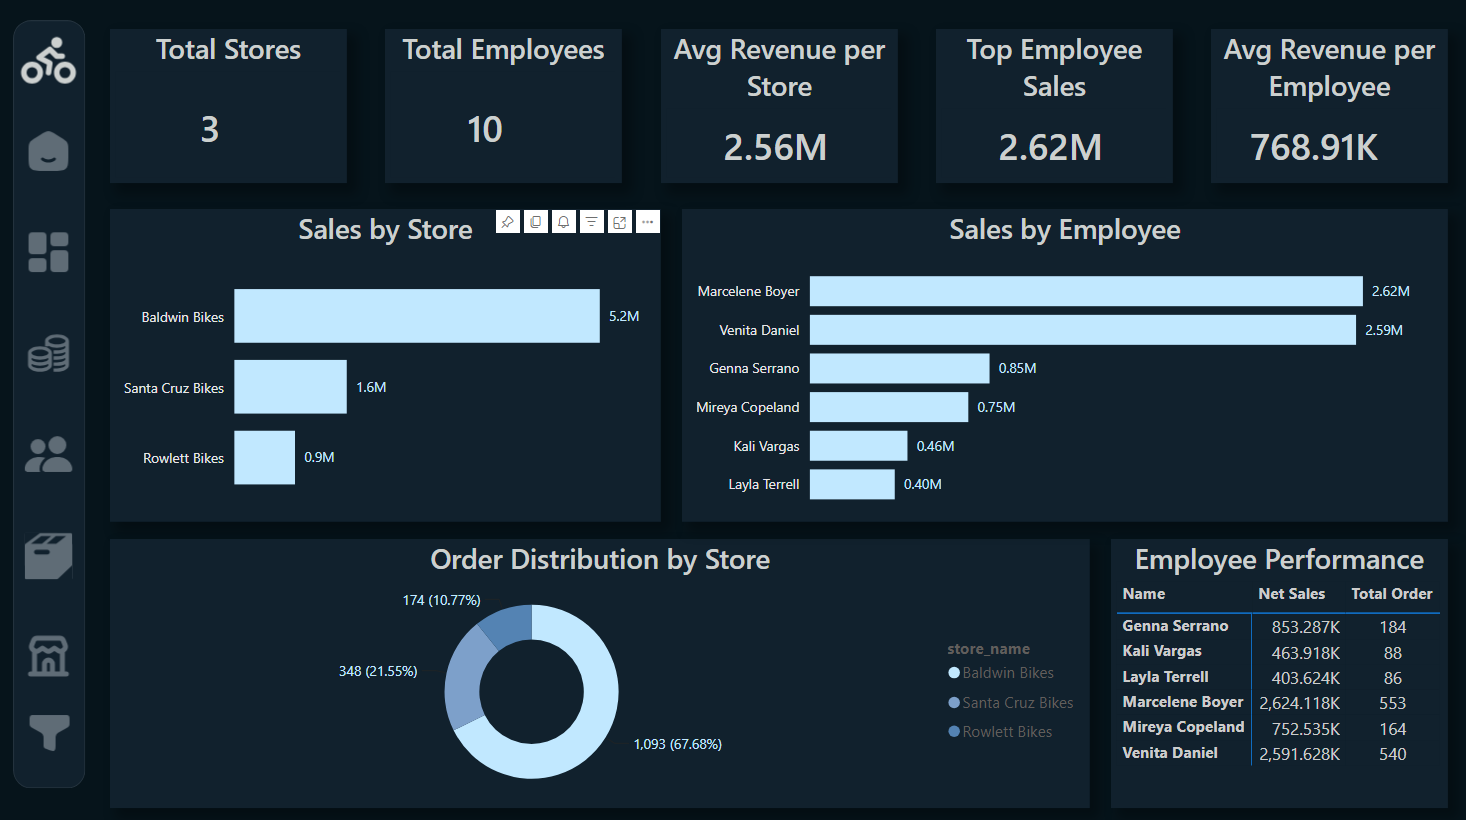

This screenshot's page, from the dashboard's own definition file:
{"tool":"powerbi","page":{"name":"Stores & Staff","canvas":[1280,720],"ordinal":5},"visuals":[{"type":"shape","box":[14.1,20.6,63,668.3],"z":0},{"type":"actionButton","box":[20.2,193.3,49.5,58.5],"z":1000},{"type":"actionButton","box":[20.2,281.9,49.5,57.4],"z":2000},{"type":"actionButton","box":[20.2,369.5,49.5,57.4],"z":3000},{"type":"actionButton","box":[20.2,545.6,49.5,57.4],"z":4000},{"type":"actionButton","box":[20.2,457,49.5,58.5],"z":5000},{"type":"actionButton","box":[20.2,105.8,49.5,57.4],"z":6000},{"type":"actionButton","box":[12.4,23.6,65.2,66.4],"z":7000},{"type":"cardVisual","title":"Total Stores","fields":{"Data":["All-Measure.Total Store"]},"box":[98.3,28.9,205.8,134.1],"z":8000},{"type":"cardVisual","title":"Avg Revenue per Store","fields":{"Data":["All-Measure.Revenue per Store"]},"box":[577,28.9,205.8,134.1],"z":9000},{"type":"cardVisual","title":"Total Employees","fields":{"Data":["All-Measure.Total Employees"]},"box":[337.6,28.9,205.8,134.1],"z":10000},{"type":"cardVisual","title":"Avg Revenue per Employee","fields":{"Data":["All-Measure.Avg Revenue per Employee"]},"box":[1055.7,28.9,205.8,134.1],"z":11000},{"type":"cardVisual","title":"Top Employee Sales","fields":{"Data":["All-Measure.Best Employee Revenue"]},"box":[816.3,28.9,205.8,134.1],"z":12000},{"type":"barChart","title":"Sales by Store","fields":{"Category":["Stores.store_name"],"Y":["All-Measure.Total Sales"]},"box":[98.3,185,478.7,271.7],"z":13000},{"type":"donutChart","title":"Order Distribution by Store","fields":{"Y":["All-Measure.Total Order"],"Category":["Stores.store_name"]},"box":[98.3,471.8,852.2,233.6],"z":14000},{"type":"barChart","title":"Sales by Employee","fields":{"Category":["Staffs.Full_Name"],"Y":["All-Measure.Total Sales"]},"box":[595.5,185,666,271.7],"z":15000},{"type":"pivotTable","title":"Employee Performance","fields":{"Values":["All-Measure.Total Sales","All-Measure.Total Order"],"Rows":["Staffs.Full_Name"]},"box":[969,471.8,292.5,233.6],"z":16000},{"type":"actionButton","box":[20.8,612.8,49.7,56.7],"z":16001}]}

Visuals, with their boxes on the page's 1280x720 design canvas (x1, y1, x2, y2). These are canvas units, not pixel positions in the 1466x820 screenshot, which may show the page scaled, cropped or inside an application window:
shape: [14, 21, 77, 689]
actionButton: [20, 193, 70, 252]
actionButton: [20, 282, 70, 339]
actionButton: [20, 370, 70, 427]
actionButton: [20, 546, 70, 603]
actionButton: [20, 457, 70, 516]
actionButton: [20, 106, 70, 163]
actionButton: [12, 24, 78, 90]
"Total Stores" cardVisual: [98, 29, 304, 163]
"Avg Revenue per Store" cardVisual: [577, 29, 783, 163]
"Total Employees" cardVisual: [338, 29, 543, 163]
"Avg Revenue per Employee" cardVisual: [1056, 29, 1262, 163]
"Top Employee Sales" cardVisual: [816, 29, 1022, 163]
"Sales by Store" barChart: [98, 185, 577, 457]
"Order Distribution by Store" donutChart: [98, 472, 950, 705]
"Sales by Employee" barChart: [596, 185, 1262, 457]
"Employee Performance" pivotTable: [969, 472, 1262, 705]
actionButton: [21, 613, 70, 670]
